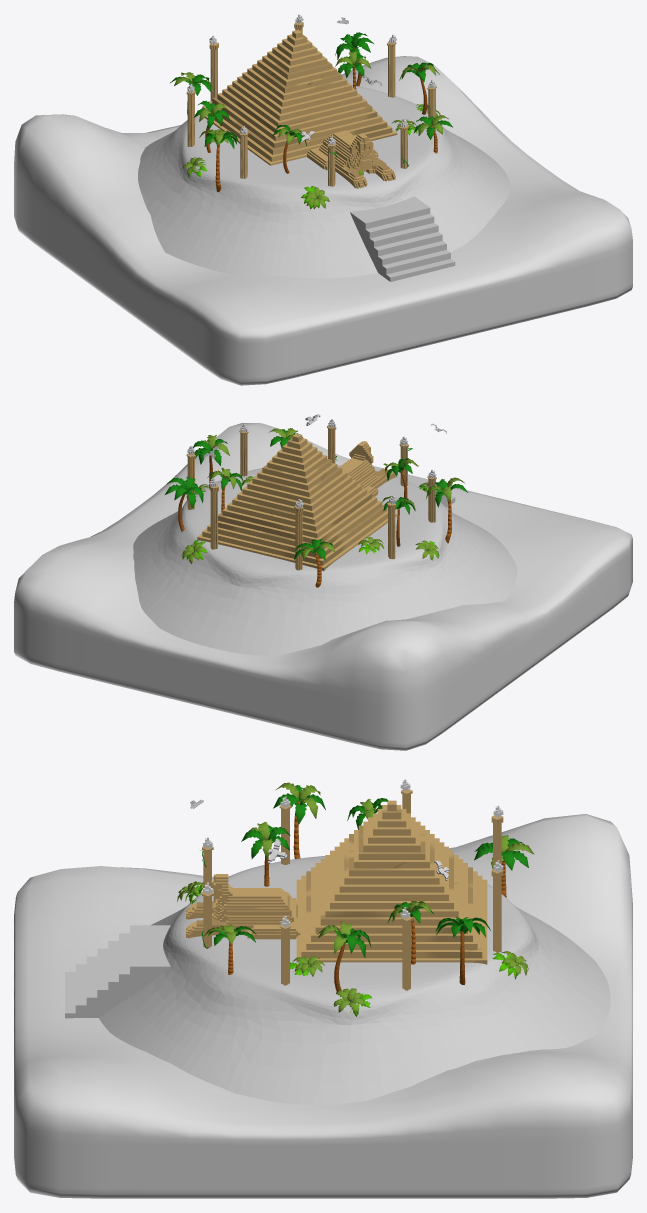
Rendered from Egyptian civilization island.fbx.
The picture shows the model from 3 angles, top to bottom: view 1: azimuth 30°, elevation 25°; view 2: azimuth 150°, elevation 25°; view 3: azimuth 270°, elevation 25°; orthographic projection. The views are drawn at different scales.
Parts seen in each view (by area): view 1: Cube, Plane, Pyramid, stairs, trees, untitledCleaned, Sphinx, bush.005; view 2: Cube, Plane, Pyramid, trees, untitledCleaned, Sphinx, bush.005; view 3: Cube, Plane, Pyramid, trees, stairs, Sphinx, untitledCleaned, bush.005, fire.003Cleaned.
Part boxes in pixels (x1,y1,x2,y2): Cube: (14,56,632,385); Plane: (138,85,510,278); Pyramid: (197,29,397,165); stairs: (350,196,455,281); trees: (170,32,452,191); untitledCleaned: (186,22,436,186); Sphinx: (307,130,395,188); bush.005: (182,104,440,208); Cube: (14,423,632,750); Plane: (133,465,517,656); Pyramid: (197,433,397,571); trees: (165,428,468,587); untitledCleaned: (186,425,436,570); Sphinx: (339,441,395,496); bush.005: (182,476,443,563); Cube: (14,814,632,1198); Plane: (99,856,610,1105); Pyramid: (296,800,487,964); trees: (203,782,534,991); stairs: (65,925,170,1018); Sphinx: (186,874,300,939); untitledCleaned: (202,789,503,990); bush.005: (177,881,528,1016); fire.003Cleaned: (203,779,503,927).
Size of the model in its own units: 3217 by 1557 by 3217.
